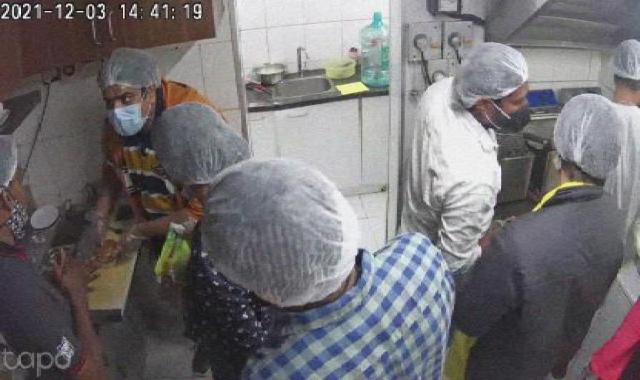hairnet: (189, 159, 375, 310), (155, 99, 274, 179), (541, 95, 628, 180), (443, 44, 539, 104), (91, 41, 181, 97), (594, 34, 640, 97)
